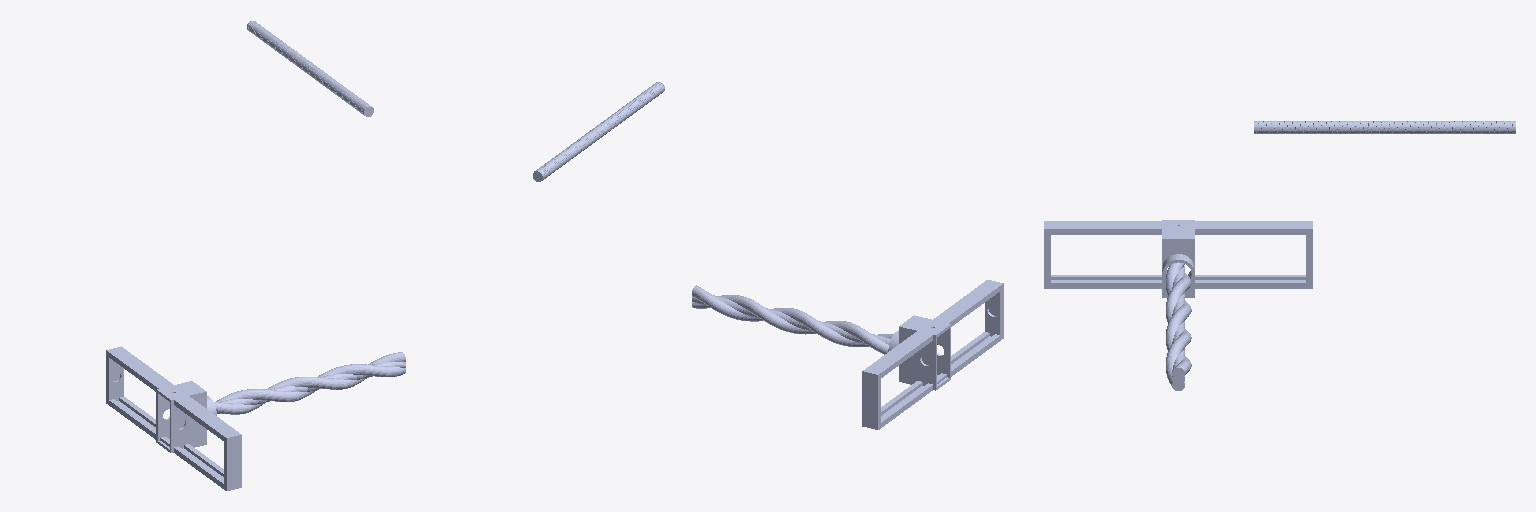
robot.urdf — robot_arm_urdf:
<?xml version="1.0" encoding="utf-8"?>
<!-- This URDF was automatically created by SolidWorks to URDF Exporter! Originally created by [author] ([email redacted]) 
     Commit Version: 1.5.1-0-g916b5db  Build Version: 1.5.7152.31018
     For more information, please see http://wiki.ros.org/sw_urdf_exporter -->
<robot
  name="robot_arm_urdf">

  <link name="world"/>

  <joint name="base_joint" type="fixed">
    <parent link="world"/>
    <child link="base_link"/>
    <origin rpy="0 0 0" xyz="0.0 0.0 0.17"/>
  </joint>

  <link
    name="base_link">
    <inertial>
      <origin
        xyz="4.1633E-17 0 0.073876"
        rpy="0 0 0" />
      <mass
        value="17.147" />
      <inertia
        ixx="0.192"
        ixy="-4.9423E-10"
        ixz="1.2752E-17"
        iyy="0.192"
        iyz="2.6417E-18"
        izz="0.29544" />
    </inertial>
    <visual>
      <origin
        xyz="0 0 0"
        rpy="0 0 0" />
      <geometry>
        <mesh
          filename="package://robot_arm_urdf/meshes/base_link.STL" />
      </geometry>
      <material
        name="">
        <color
          rgba="0.79216 0.81961 0.93333 1" />
      </material>
    </visual>
    <collision>
      <origin
        xyz="0 0 0"
        rpy="0 0 0" />
      <geometry>
        <mesh
          filename="package://robot_arm_urdf/meshes/base_link.STL" />
      </geometry>
    </collision>
  </link>
  <link
    name="link_1">
    <inertial>
      <origin
        xyz="-2.5757E-14 0.11047 -7.8988E-11"
        rpy="0 0 0" />
      <mass
        value="3.0905" />
      <inertia
        ixx="0.026302"
        ixy="-2.5267E-15"
        ixz="-1.4177E-12"
        iyy="0.019632"
        iyz="-7.4535E-12"
        izz="0.025388" />
    </inertial>
    <visual>
      <origin
        xyz="0 0 0"
        rpy="0 0 0" />
      <geometry>
        <mesh
          filename="package://robot_arm_urdf/meshes/link_1.STL" />
      </geometry>
      <material
        name="">
        <color
          rgba="1 1 1 1" />
      </material>
    </visual>
    <collision>
      <origin
        xyz="0 0 0"
        rpy="0 0 0" />
      <geometry>
        <mesh
          filename="package://robot_arm_urdf/meshes/link_1.STL" />
      </geometry>
    </collision>
  </link>
  <joint
    name="joint_1"
    type="revolute">
    <origin
      xyz="0 0 0.2"
      rpy="1.5708 0 1.5708" />
    <parent
      link="base_link" />
    <child
      link="link_1" />
    <axis
      xyz="0 1 0" />
    <limit
      lower="0"
      upper="6.284"
      effort="300"
      velocity="3" />
  </joint>
  <link
    name="link_2">
    <inertial>
      <origin
        xyz="-1.1102E-16 0.16752 -2.498E-16"
        rpy="0 0 0" />
      <mass
        value="5.5867" />
      <inertia
        ixx="0.12632"
        ixy="8.4877E-17"
        ixz="7.8685E-19"
        iyy="0.011401"
        iyz="1.4432E-16"
        izz="0.12911" />
    </inertial>
    <visual>
      <origin
        xyz="0 0 0"
        rpy="0 0 0" />
      <geometry>
        <mesh
          filename="package://robot_arm_urdf/meshes/link_2.STL" />
      </geometry>
      <material
        name="">
        <color
          rgba="0.79216 0.81961 0.93333 1" />
      </material>
    </visual>
    <collision>
      <origin
        xyz="0 0 0"
        rpy="0 0 0" />
      <geometry>
        <mesh
          filename="package://robot_arm_urdf/meshes/link_2.STL" />
      </geometry>
    </collision>
  </link>
  <joint
    name="joint_2"
    type="revolute">
    <origin
      xyz="0 0.205 0"
      rpy="0 0 0" />
    <parent
      link="link_1" />
    <child
      link="link_2" />
    <axis
      xyz="0 0 1" />
    <limit
      lower="-1.57"
      upper="1.57"
      effort="200"
      velocity="3" />
  </joint>
  <link
    name="link_3">
    <inertial>
      <origin
        xyz="-0.17893 0 -1.249E-16"
        rpy="0 0 0" />
      <mass
        value="2.8262" />
      <inertia
        ixx="0.0074041"
        ixy="-1.7927E-17"
        ixz="4.2672E-17"
        iyy="0.028552"
        iyz="-3.4736E-10"
        izz="0.025128" />
    </inertial>
    <visual>
      <origin
        xyz="0 0 0"
        rpy="0 0 0" />
      <geometry>
        <mesh
          filename="package://robot_arm_urdf/meshes/link_3.STL" />
      </geometry>
      <material
        name="">
        <color
          rgba="0.79216 0.81961 0.93333 1" />
      </material>
    </visual>
    <collision>
      <origin
        xyz="0 0 0"
        rpy="0 0 0" />
      <geometry>
        <mesh
          filename="package://robot_arm_urdf/meshes/link_3.STL" />
      </geometry>
    </collision>
  </link>
  <joint
    name="joint_3"
    type="revolute">
    <origin
      xyz="0 0.4 0"
      rpy="0 0 0" />
    <parent
      link="link_2" />
    <child
      link="link_3" />
    <axis
      xyz="0 0 1" />
    <limit
      lower="-3.142"
      upper="0"
      effort="200"
      velocity="3" />
  </joint>
  <link
    name="link_4">
    <inertial>
      <origin
        xyz="-0.051672 -2.2204E-16 -1.1102E-16"
        rpy="0 0 0" />
      <mass
        value="1.8097" />
      <inertia
        ixx="0.0023112"
        ixy="-9.6437E-18"
        ixz="-9.9829E-19"
        iyy="0.0096102"
        iyz="1.3194E-19"
        izz="0.0093908" />
    </inertial>
    <visual>
      <origin
        xyz="0 0 0"
        rpy="0 0 0" />
      <geometry>
        <mesh
          filename="package://robot_arm_urdf/meshes/link_4.STL" />
      </geometry>
      <material
        name="">
        <color
          rgba="0.79216 0.81961 0.93333 1" />
      </material>
    </visual>
    <collision>
      <origin
        xyz="0 0 0"
        rpy="0 0 0" />
      <geometry>
        <mesh
          filename="package://robot_arm_urdf/meshes/link_4.STL" />
      </geometry>
    </collision>
  </link>
  <joint
    name="joint_4"
    type="revolute">
    <origin
      xyz="-0.35 0 0"
      rpy="0 0 1.5708" />
    <parent
      link="link_3" />
    <child
      link="link_4" />
    <axis
      xyz="0 0 1" />
    <limit
      lower="-3.142"
      upper="0"
      effort="200"
      velocity="3" />
  </joint>
  <link
    name="link_5">
    <inertial>
      <origin
        xyz="-0.018544 0 -2.7756E-17"
        rpy="0 0 0" />
      <mass
        value="0.19053" />
      <inertia
        ixx="0.00030197"
        ixy="1.6611E-20"
        ixz="3.6309E-21"
        iyy="0.00022817"
        iyz="-1.9664E-11"
        izz="0.00011843" />
    </inertial>
    <visual>
      <origin
        xyz="0 0 0"
        rpy="0 0 0" />
      <geometry>
        <mesh
          filename="package://robot_arm_urdf/meshes/link_5.STL" />
      </geometry>
      <material
        name="">
        <color
          rgba="0.79216 0.81961 0.93333 1" />
      </material>
    </visual>
    <collision>
      <origin
        xyz="0 0 0"
        rpy="0 0 0" />
      <geometry>
        <mesh
          filename="package://robot_arm_urdf/meshes/link_5.STL" />
      </geometry>
    </collision>
  </link>
  <joint
    name="joint_5"
    type="revolute">
    <origin
      xyz="-0.188 0 0"
      rpy="0 0 0" />
    <parent
      link="link_4" />
    <child
      link="link_5" />
    <axis
      xyz="1 0 0" />
    <limit
      lower="0"
      upper="3.142"
      effort="200"
      velocity="3" />
  </joint>
  <link
    name="link_6">
    <inertial>
      <origin
        xyz="-0.60237 0.4 -0.016013"
        rpy="0 0 0" />
      <mass
        value="0.11653" />
      <inertia
        ixx="3.9246E-05"
        ixy="-9.4878E-20"
        ixz="1.0258E-05"
        iyy="7.1189E-05"
        iyz="-3.4206E-20"
        izz="8.4875E-05" />
    </inertial>
    <visual>
      <origin
        xyz="0 0 0"
        rpy="0 0 0" />
      <geometry>
        <mesh
          filename="package://robot_arm_urdf/meshes/link_6.STL" />
      </geometry>
      <material
        name="">
        <color
          rgba="0.79216 0.81961 0.93333 1" />
      </material>
    </visual>
    <collision>
      <origin
        xyz="0 0 0"
        rpy="0 0 0" />
      <geometry>
        <mesh
          filename="package://robot_arm_urdf/meshes/link_6.STL" />
      </geometry>
    </collision>
  </link>
  <joint
    name="joint_6"
    type="prismatic">
    <origin
      xyz="0.54 -0.4 0"
      rpy="0 0 0" />
    <parent
      link="link_5" />
    <child
      link="link_6" />
    <axis
      xyz="0 0 -1" />
    <limit
      lower="0"
      upper="0.03"
      effort="100"
      velocity="3" />
  </joint>
  <link
    name="link_7">
    <inertial>
      <origin
        xyz="-0.60237 0.4 -0.016013"
        rpy="0 0 0" />
      <mass
        value="0.11653" />
      <inertia
        ixx="3.9246E-05"
        ixy="-4.7946E-20"
        ixz="1.0258E-05"
        iyy="7.1189E-05"
        iyz="-3.946E-20"
        izz="8.4875E-05" />
    </inertial>
    <visual>
      <origin
        xyz="0 0 0"
        rpy="0 0 0" />
      <geometry>
        <mesh
          filename="package://robot_arm_urdf/meshes/link_7.STL" />
      </geometry>
      <material
        name="">
        <color
          rgba="0.79216 0.81961 0.93333 1" />
      </material>
    </visual>
    <collision>
      <origin
        xyz="0 0 0"
        rpy="0 0 0" />
      <geometry>
        <mesh
          filename="package://robot_arm_urdf/meshes/link_7.STL" />
      </geometry>
    </collision>
  </link>
  <joint
    name="joint_7"
    type="prismatic">
    <origin
      xyz="0.54 0.4 0"
      rpy="3.1416 0 0" />
    <parent
      link="link_5" />
    <child
      link="link_7" />
    <axis
      xyz="0 0 1" />
    <limit
      lower="-0.03"
      upper="0"
      effort="100"
      velocity="3" />
  </joint>

  <transmission name="link_1_trans">
    <type>transmission_interface/SimpleTransmission</type>
    <joint name="joint_1">
      <hardwareInterface>hardware_interface/PositionJointInterface</hardwareInterface>
    </joint>
    <actuator name="link_1_motor">
      <hardwareInterface>hardware_interface/PositionJointInterface</hardwareInterface>
      <mechanicalReduction>1</mechanicalReduction>
    </actuator>
  </transmission>

  <transmission name="link_2_trans">
    <type>transmission_interface/SimpleTransmission</type>
    <joint name="joint_2">
      <hardwareInterface>hardware_interface/PositionJointInterface</hardwareInterface>
    </joint>
    <actuator name="link_2_motor">
      <hardwareInterface>hardware_interface/PositionJointInterface</hardwareInterface>
      <mechanicalReduction>1</mechanicalReduction>
    </actuator>
  </transmission>

  <transmission name="link_3_trans">
    <type>transmission_interface/SimpleTransmission</type>
    <joint name="joint_3">
      <hardwareInterface>hardware_interface/PositionJointInterface</hardwareInterface>
    </joint>
    <actuator name="link_3_motor">
      <hardwareInterface>hardware_interface/PositionJointInterface</hardwareInterface>
      <mechanicalReduction>1</mechanicalReduction>
    </actuator>
  </transmission>

  <transmission name="link_4_trans">
    <type>transmission_interface/SimpleTransmission</type>
    <joint name="joint_4">
      <hardwareInterface>hardware_interface/PositionJointInterface</hardwareInterface>
    </joint>
    <actuator name="link_4_motor">
      <hardwareInterface>hardware_interface/PositionJointInterface</hardwareInterface>
      <mechanicalReduction>1</mechanicalReduction>
    </actuator>
  </transmission>

  <transmission name="link_5_trans">
    <type>transmission_interface/SimpleTransmission</type>
    <joint name="joint_5">
      <hardwareInterface>hardware_interface/PositionJointInterface</hardwareInterface>
    </joint>
    <actuator name="link_5_motor">
      <hardwareInterface>hardware_interface/PositionJointInterface</hardwareInterface>
      <mechanicalReduction>1</mechanicalReduction>
    </actuator>
  </transmission>

  <transmission name="link_6_trans">
    <type>transmission_interface/SimpleTransmission</type>
    <joint name="joint_6">
      <hardwareInterface>hardware_interface/PositionJointInterface</hardwareInterface>
    </joint>
    <actuator name="link_6_motor">
      <hardwareInterface>hardware_interface/PositionJointInterface</hardwareInterface>
      <mechanicalReduction>1</mechanicalReduction>
    </actuator>
  </transmission>

  <transmission name="link_7_trans">
    <type>transmission_interface/SimpleTransmission</type>
    <joint name="joint_7">
      <hardwareInterface>hardware_interface/PositionJointInterface</hardwareInterface>
    </joint>
    <actuator name="link_7_motor">
      <hardwareInterface>hardware_interface/PositionJointInterface</hardwareInterface>
      <mechanicalReduction>1</mechanicalReduction>
    </actuator>
  </transmission>

  <gazebo>
    <plugin name="control" filename="libgazebo_ros_control.so">
      <robotNamespace>/</robotNamespace>
    </plugin>
  </gazebo>


  <gazebo reference="link_1">
    <selfCollide>true</selfCollide>
  </gazebo>

  <gazebo reference="link_2">
    <selfCollide>true</selfCollide>
  </gazebo>

  <gazebo reference="link_3">
    <selfCollide>true</selfCollide>
  </gazebo>

  <gazebo reference="link_4">
    <selfCollide>true</selfCollide>
  </gazebo>

  <gazebo reference="link_5">
    <selfCollide>true</selfCollide>
  </gazebo>

  <gazebo reference="link_6">
    <selfCollide>true</selfCollide>
  </gazebo>

  <gazebo reference="link_7">
    <selfCollide>true</selfCollide>
  </gazebo>

</robot>

--- Facts derived from the render (not from the file) ---
Views: 3 orthographic renders of the robot side by side, from view 1: azimuth 30°, elevation 25°; view 2: azimuth 150°, elevation 25°; view 3: azimuth 270°, elevation 25°.
Robot: robot_arm_urdf — 9 links, 8 joints (5 revolute, 2 prismatic, 1 fixed); root link world; default pose: every joint at zero.
Visible links, largest first — view 1: link_5, link_6; view 2: link_5, link_6; view 3: link_5, link_6.
Boxes of the visible links, bbox=[...] form: link_5: bbox=[106, 346, 405, 490]; link_6: bbox=[247, 21, 373, 116]; link_5: bbox=[692, 280, 1003, 429]; link_6: bbox=[533, 82, 664, 181]; link_5: bbox=[1044, 220, 1312, 390]; link_6: bbox=[1254, 121, 1515, 133].
Bounding box of the posed robot: 0.6096 × 0.9144 × 0.6162 m (x, y, z).
2 mesh visuals loaded from 8 distinct referenced files (2 binary STL); not drawn: 6 (reference not matched to a file when rendering).